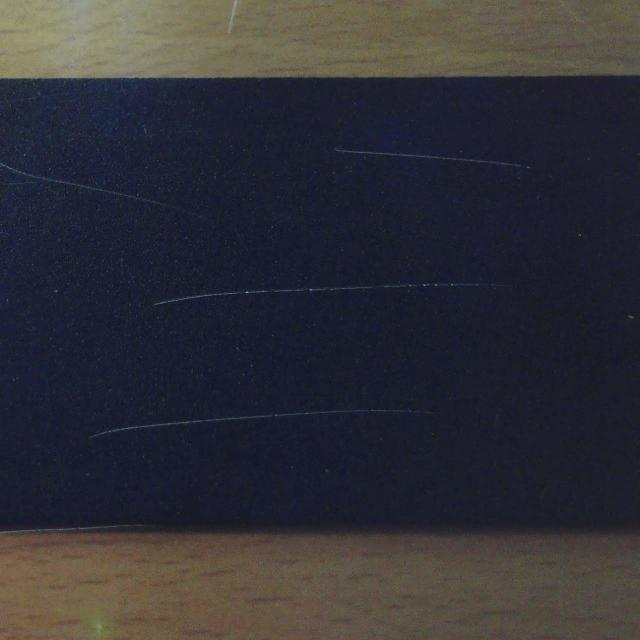defect: (0, 158, 219, 232), (83, 395, 442, 440), (151, 282, 513, 308), (332, 141, 539, 175)
